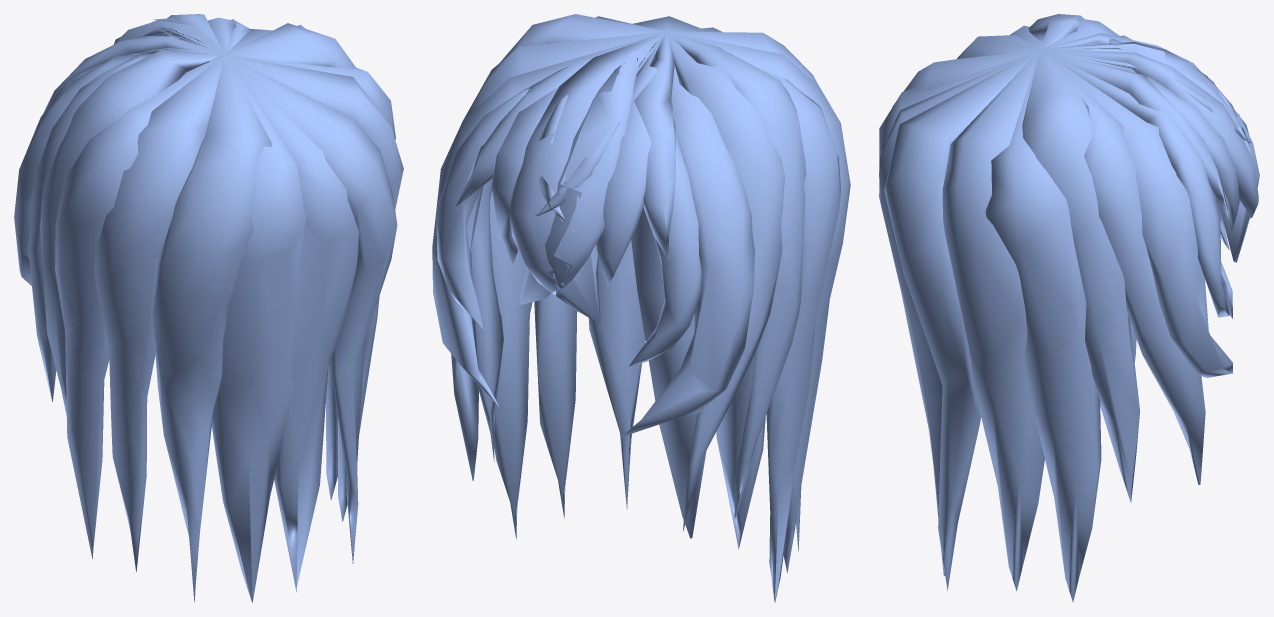
The model's file is hair.obj.
3 renders of one model, left to right at view 1: azimuth 30°, elevation 25°; view 2: azimuth 150°, elevation 25°; view 3: azimuth 270°, elevation 25°, orthographic. The views are drawn at different scales.
Visible parts, largest first — view 1: hair; view 2: hair; view 3: hair.
Part boxes in pixels (x1,y1,x2,y2): hair: (14,14,403,602); hair: (432,14,850,602); hair: (879,14,1259,602).
Size of the model in its own units: 0.6454 by 0.9991 by 0.664.
Materials: 1 (1 with a texture image).
